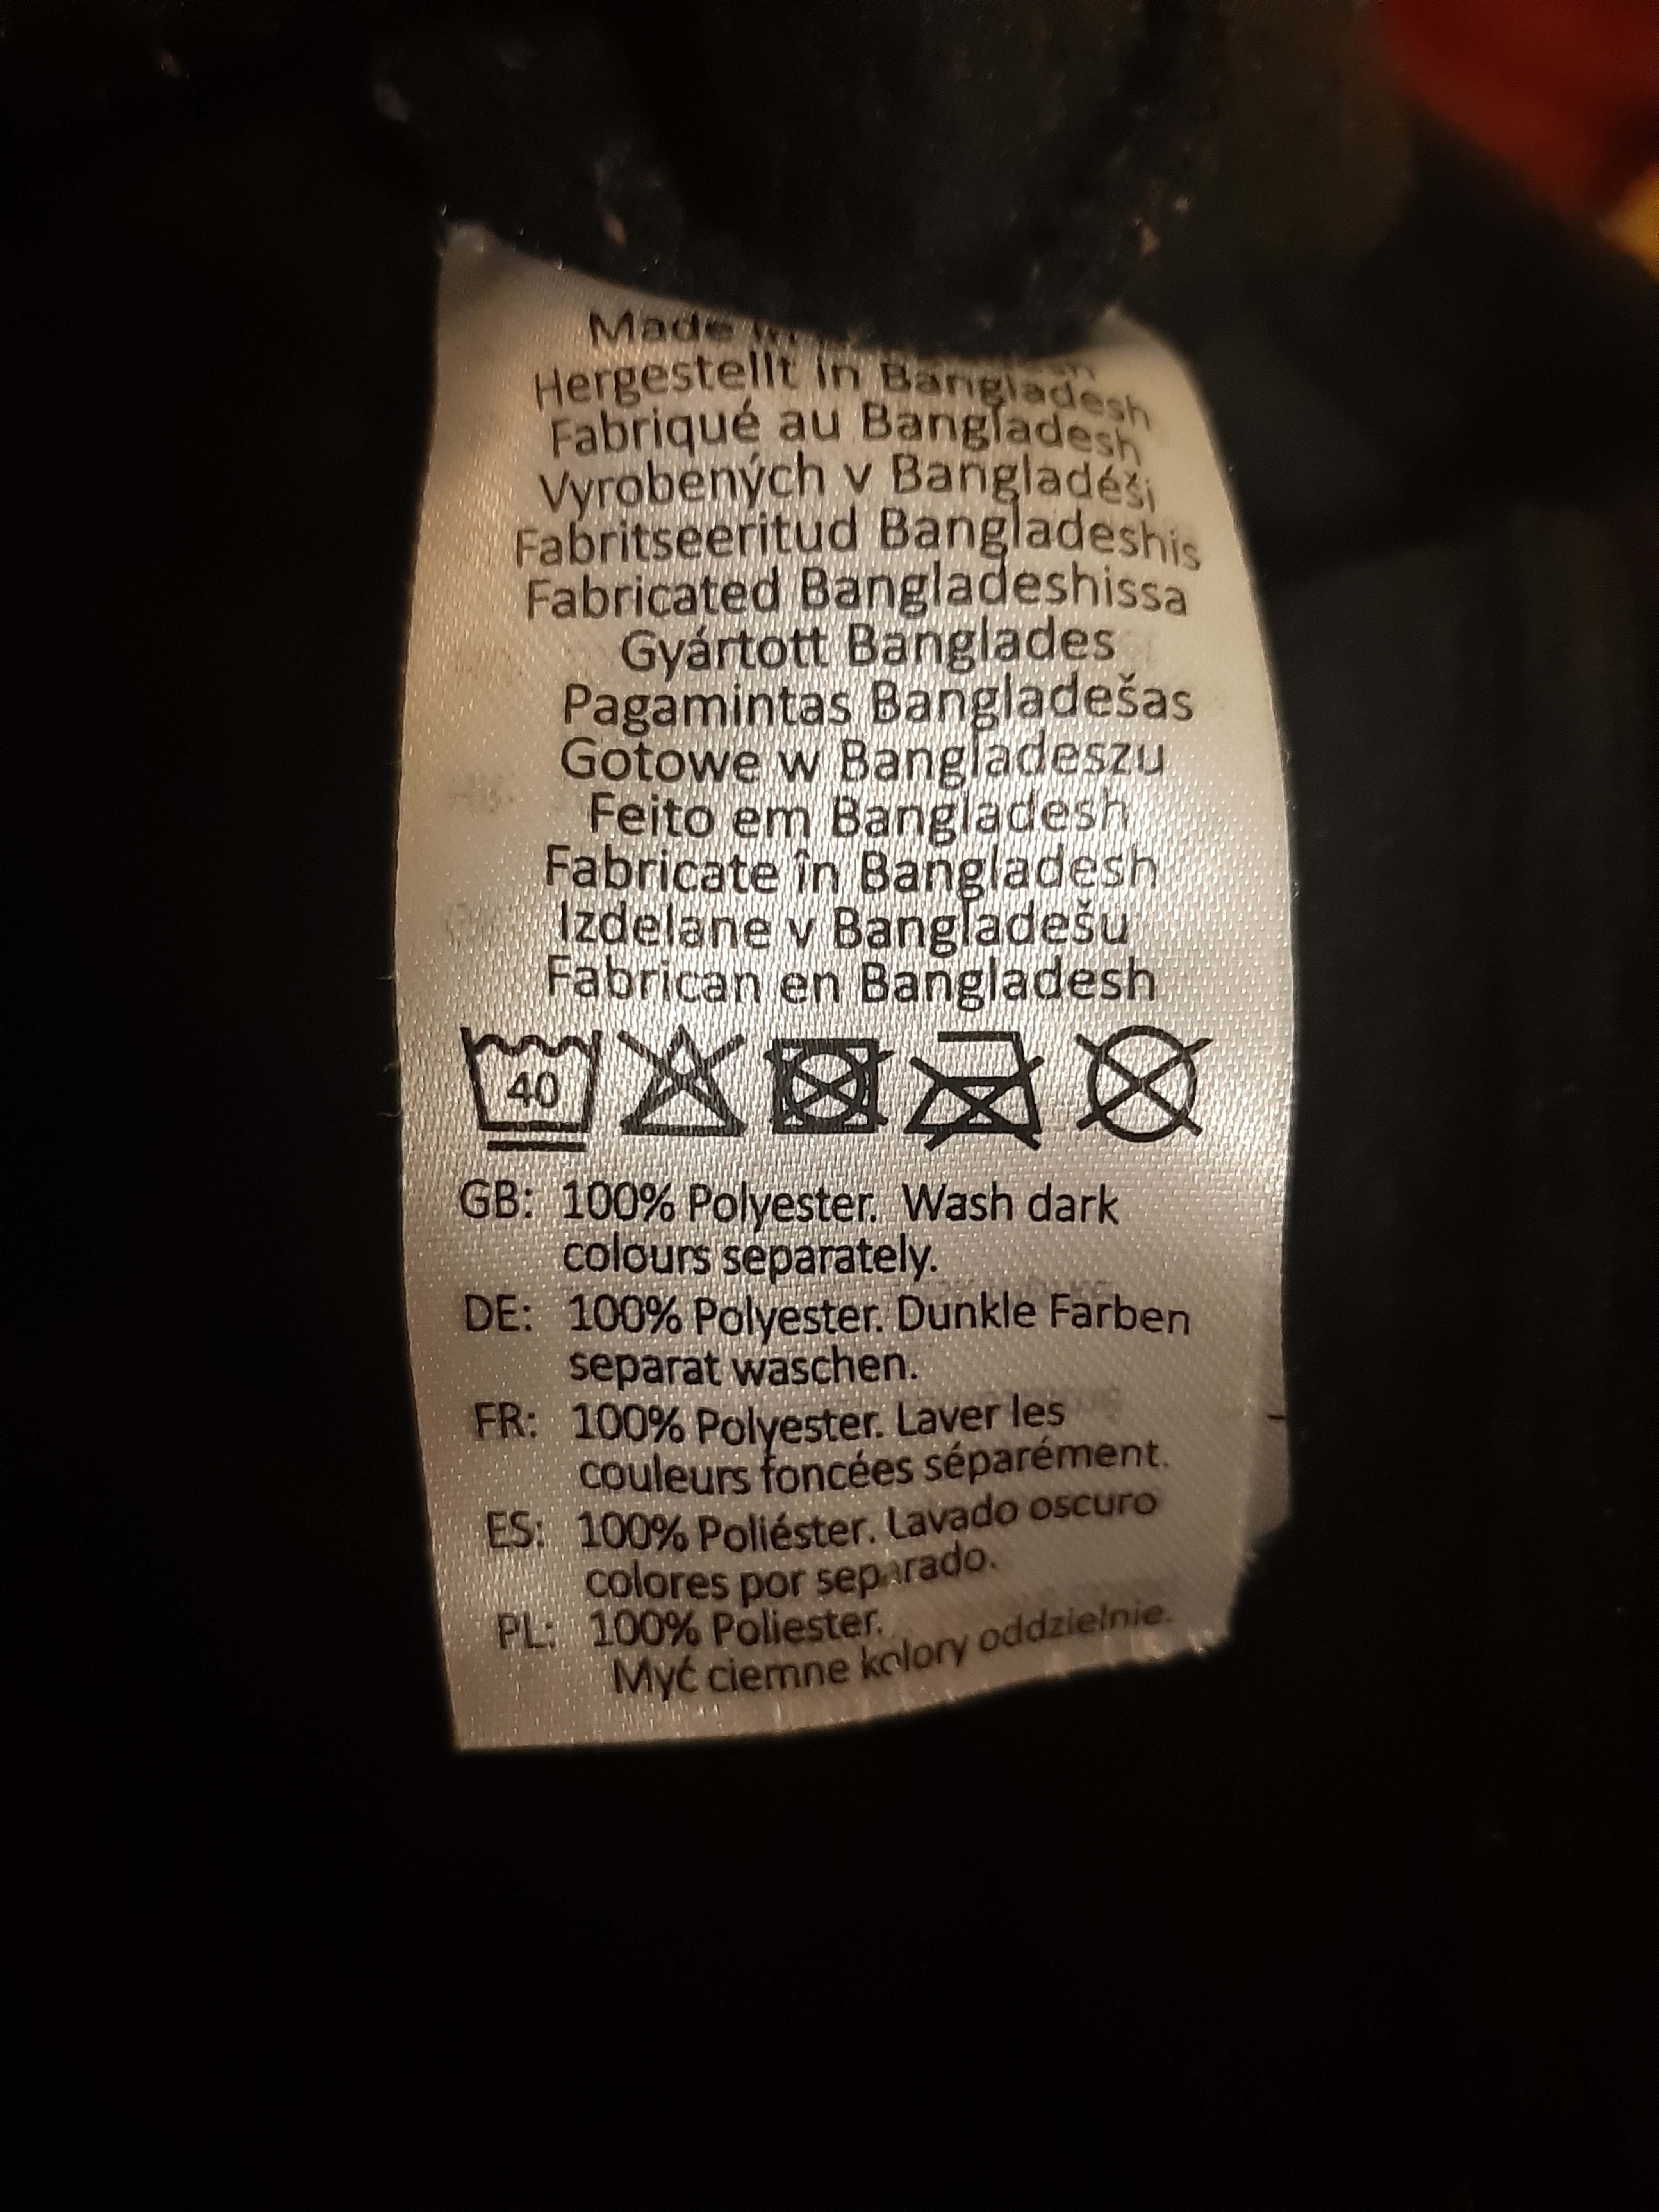do not bleach: (617, 1015, 758, 1155)
do not dry clean: (1068, 1015, 1246, 1177)
do not iron: (915, 1038, 1072, 1165)
do not tumble dry: (758, 1029, 903, 1160)
wash at or below 40: (434, 1010, 613, 1157)
